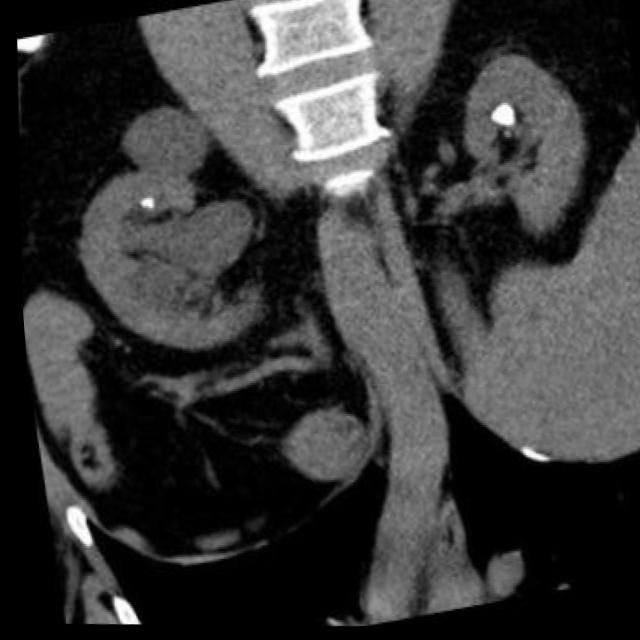Tas_Var: (478, 91, 530, 149), (125, 189, 163, 222)
